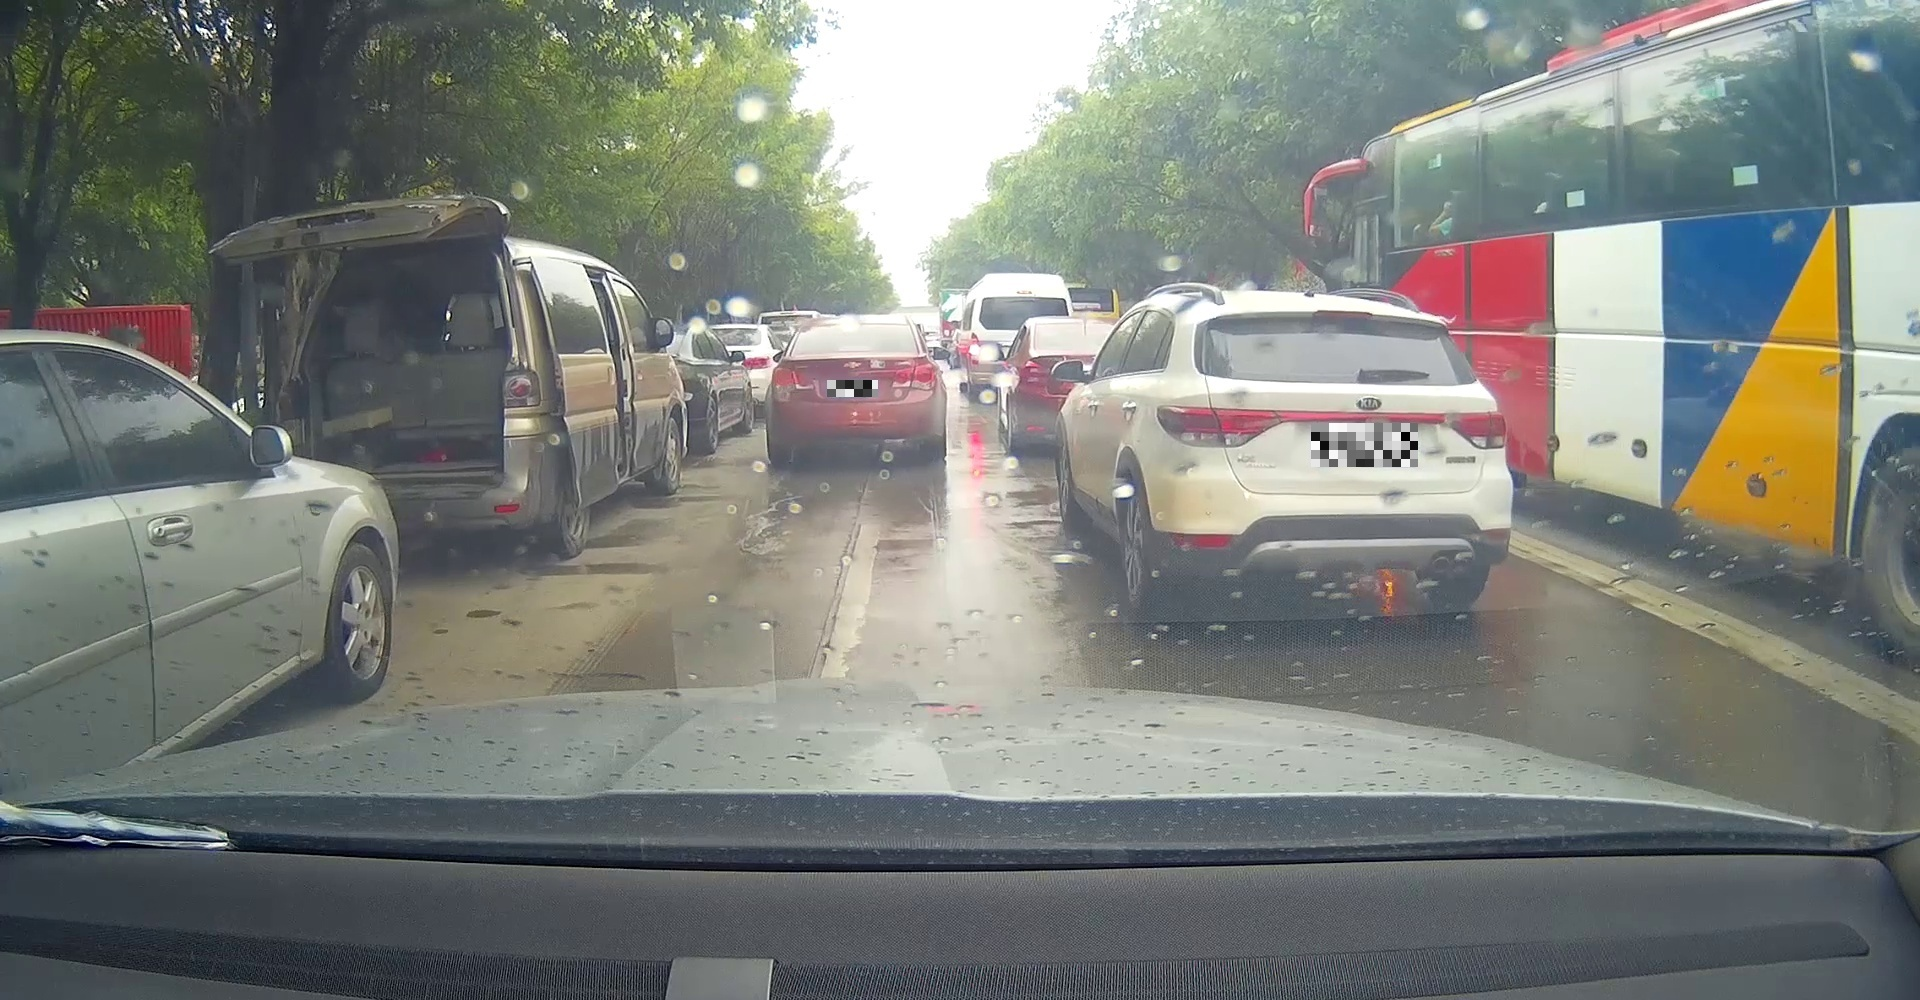L_light: (1156, 404, 1280, 445), (770, 365, 817, 391)
R_light: (1445, 411, 1507, 449), (893, 363, 938, 391)
T_light: (1313, 310, 1373, 319), (837, 345, 872, 352)
day-no: (1148, 291, 1516, 610), (762, 313, 950, 462)
plate_1: (827, 379, 877, 397)
plate_2: (1310, 423, 1418, 467)
